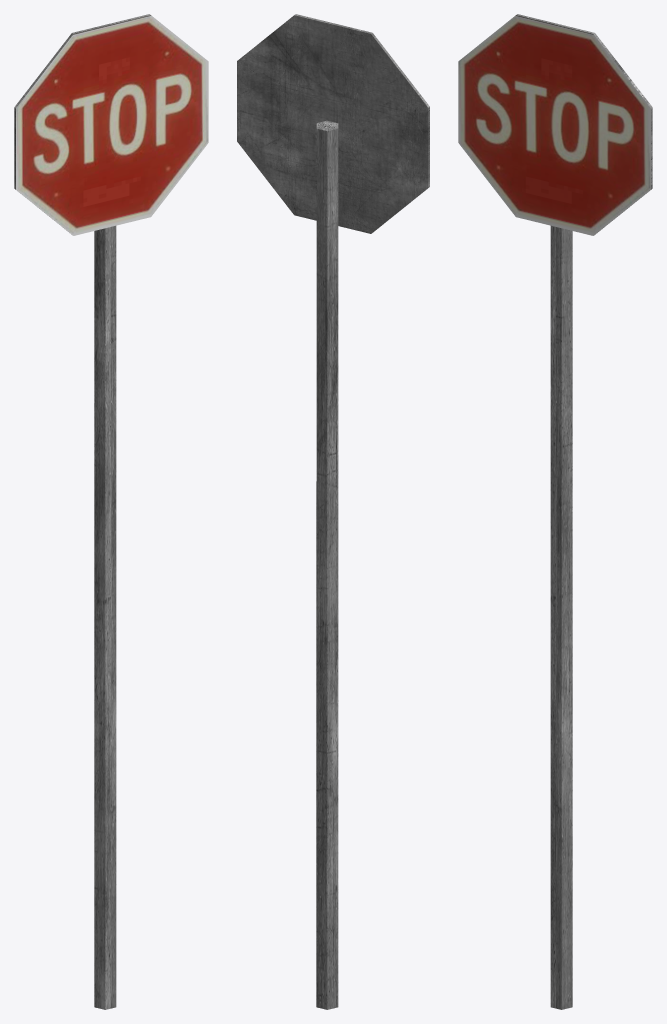
Rendered from Stop sign.fbx.
The picture shows the model from 3 angles, left to right: view 1: azimuth 30°, elevation 25°; view 2: azimuth 150°, elevation 25°; view 3: azimuth 330°, elevation 25°; orthographic projection.
Visible parts, largest first — view 1: Stop sign_LOD0; view 2: Stop sign_LOD0; view 3: Stop sign_LOD0.
Boxes of the visible parts, x1,y1,x2,y2 form: Stop sign_LOD0: (14,14,208,1009); Stop sign_LOD0: (237,14,429,1009); Stop sign_LOD0: (458,14,652,1009).
Size of what is drawn, in the model's own units: 0.6147 by 3 by 0.0689.
